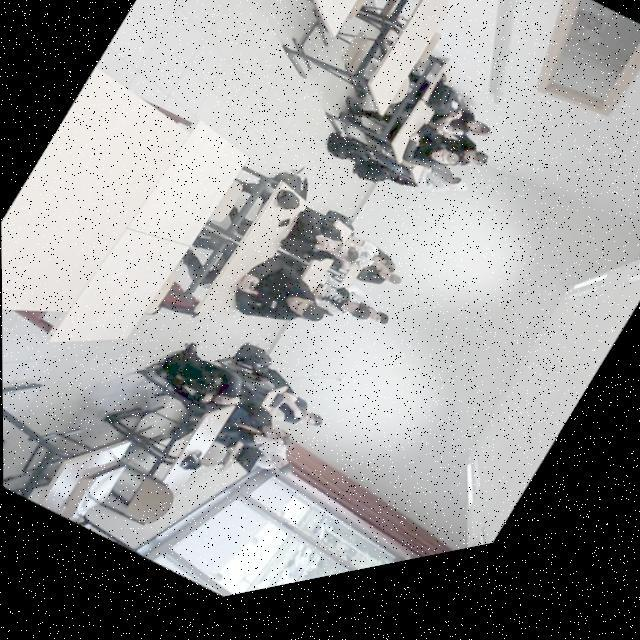phone_use: (235, 250, 330, 318), (411, 164, 465, 190)
